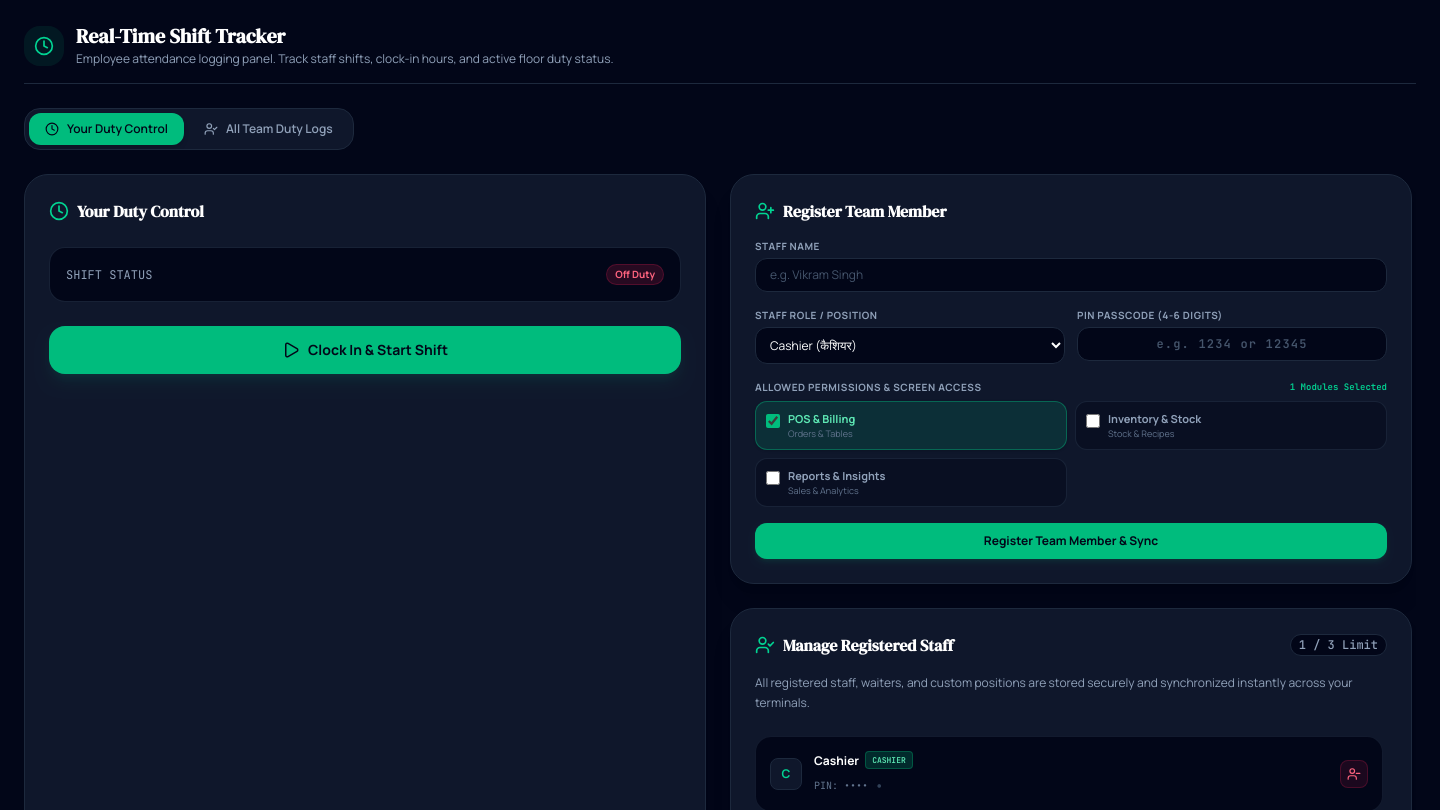
Test: retains the confirmation/list when deletion succeeds but refresh fails
What coordinates should you click on to do the following:
click the button titled "Delete Staff Member"
I would click on:
 (1354, 774)
Its box is x1=1340 y1=760 x2=1368 y2=788.
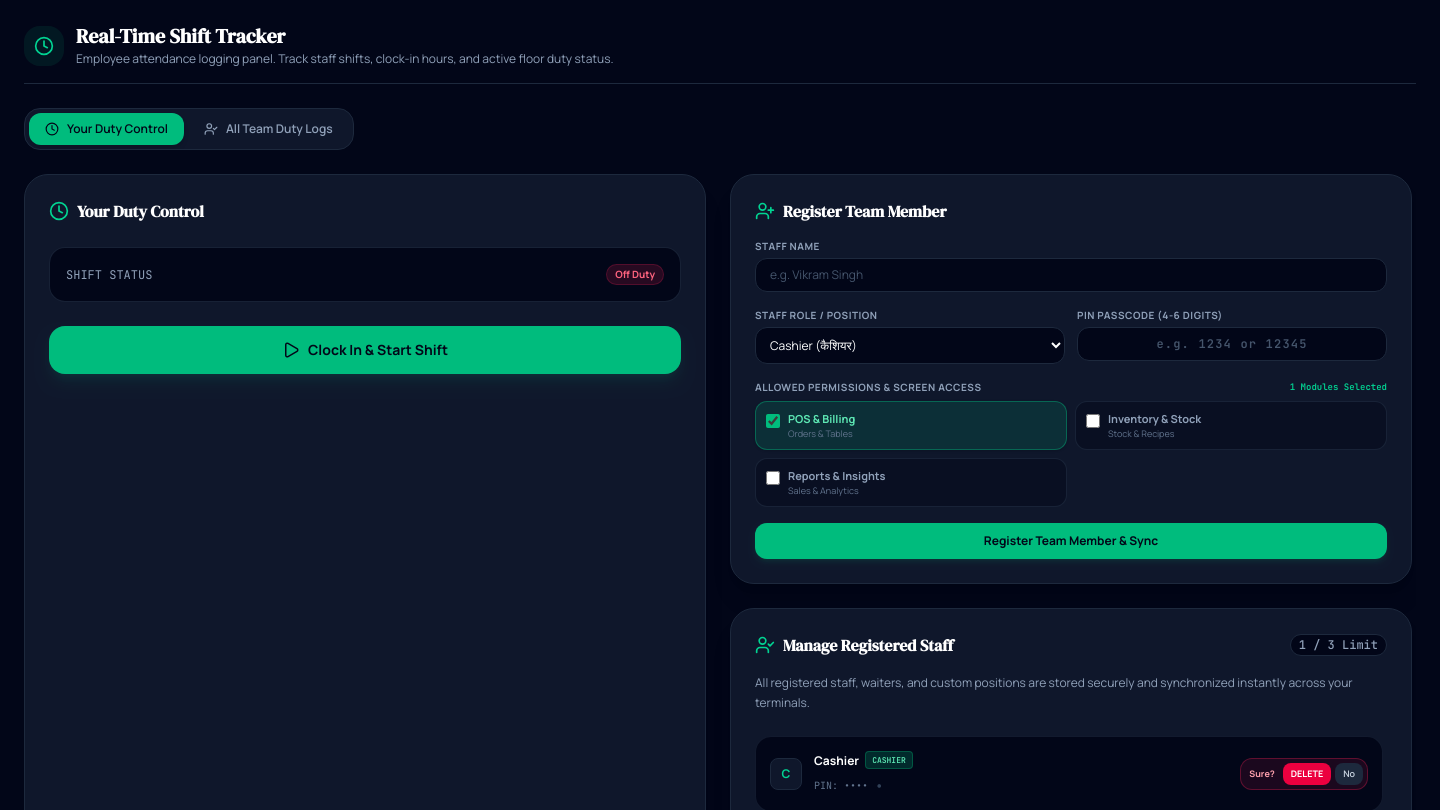
What coordinates should you click on to do the following:
click the button "Delete"
I would click on:
 (1307, 774)
Its box is x1=1283 y1=763 x2=1331 y2=785.
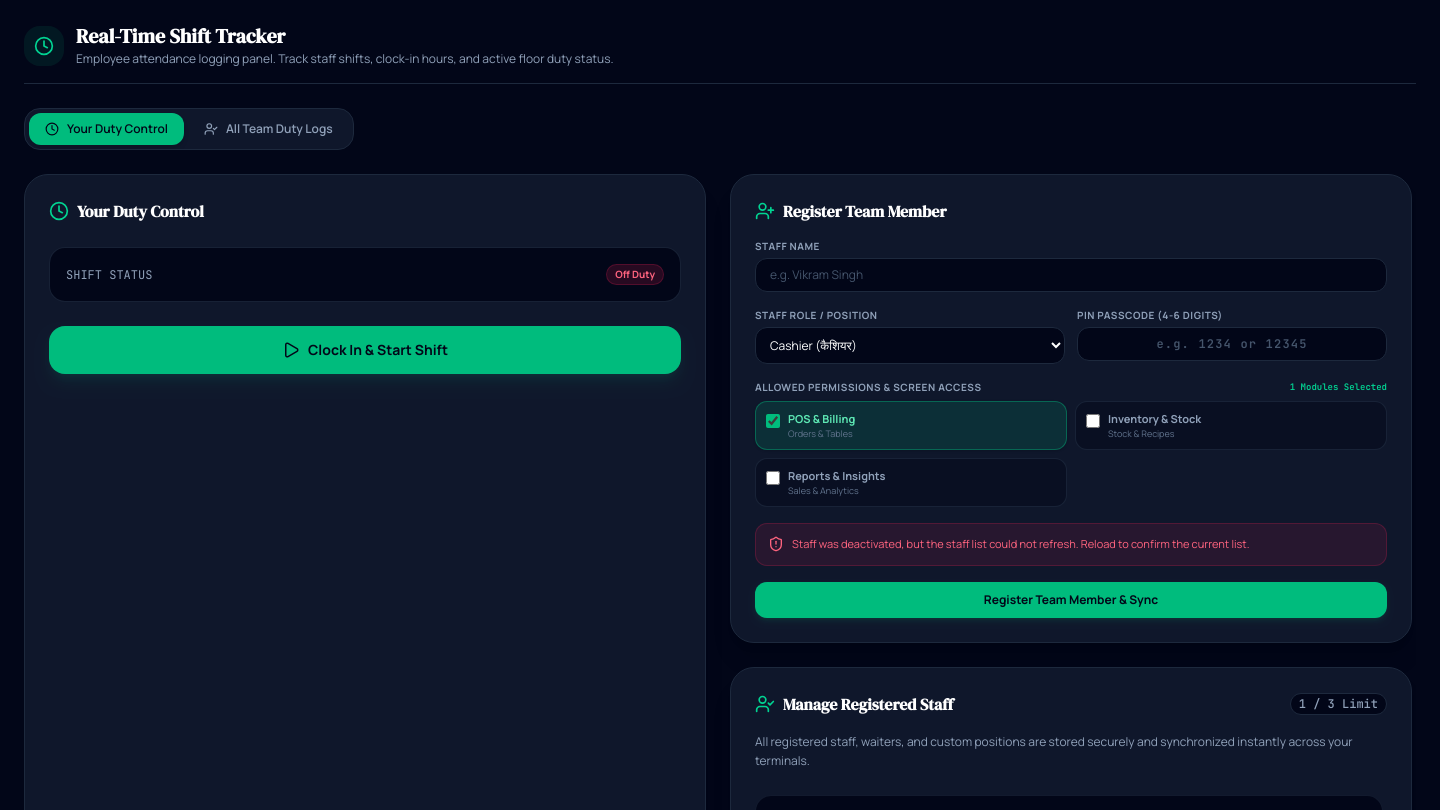
Now the text "Staff was deactivated, but the staff list could not refresh" is shown, box x1=792 y1=536 x2=1250 y2=551
